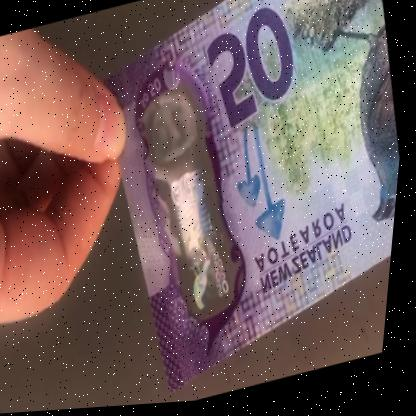50B: (131, 88, 253, 328)
